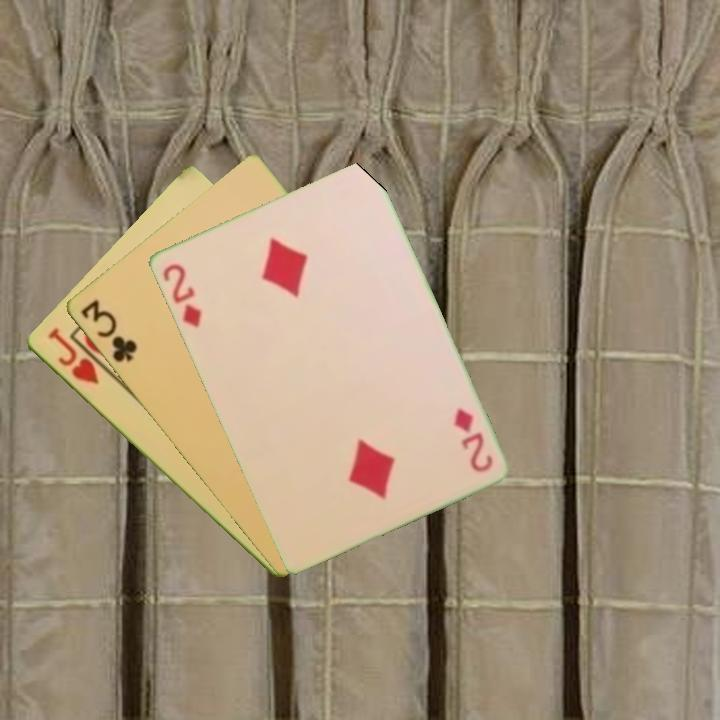2d: (449, 404, 496, 475), (158, 259, 204, 330)
3c: (76, 295, 140, 366)
Jh: (43, 324, 102, 388)
